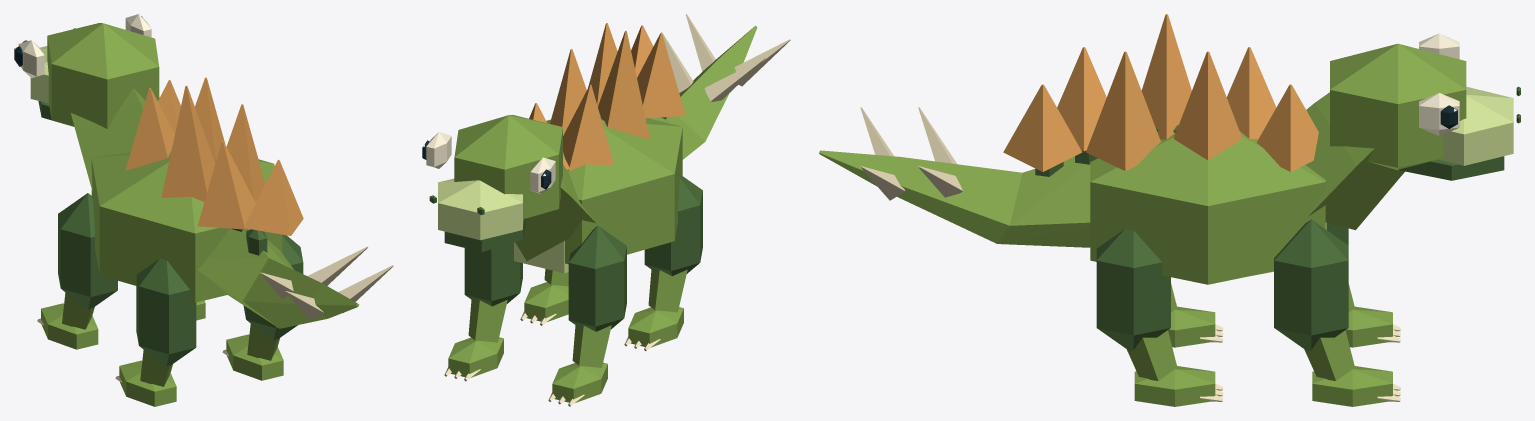
Rendered from stegosaurus.obj.
The picture shows the model from 3 angles, left to right: view 1: azimuth 30°, elevation 25°; view 2: azimuth 150°, elevation 25°; view 3: azimuth 270°, elevation 25°; orthographic projection. The views are drawn at different scales.
Parts seen in each view (by area): view 1: stegosaurus; view 2: stegosaurus; view 3: stegosaurus.
Part boxes in pixels (box(x1,y1,x2,y2)): stegosaurus: box(14, 14, 393, 406); stegosaurus: box(422, 14, 790, 406); stegosaurus: box(819, 14, 1520, 406).
Bounding box in the file's own units: 2.77 × 4.66 × 8.49.
